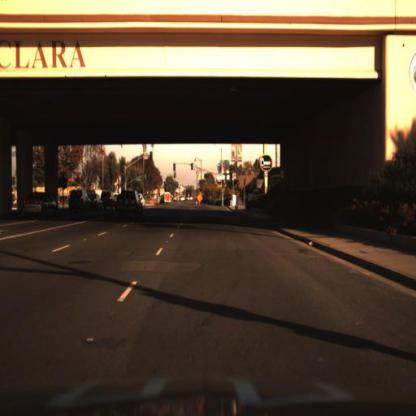car: (21, 190, 61, 221), (115, 188, 146, 224), (69, 188, 93, 214), (100, 191, 116, 212), (92, 190, 103, 214), (157, 191, 173, 206)
